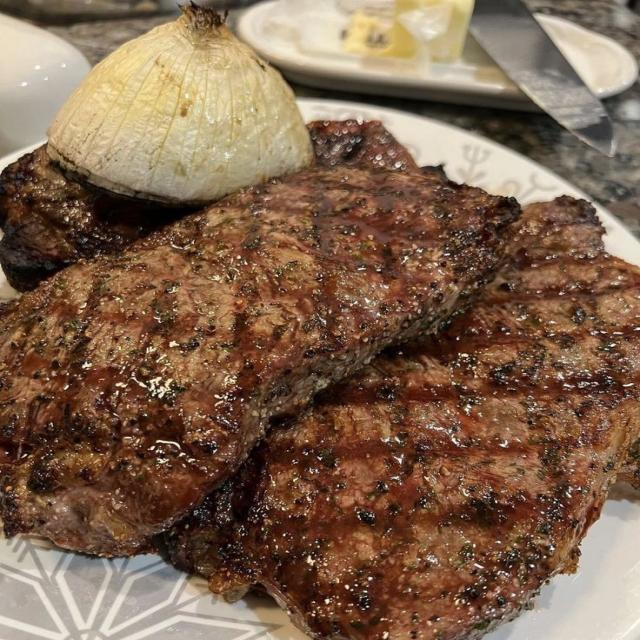beef steak: (167, 196, 639, 639), (0, 165, 519, 555), (0, 145, 193, 291), (309, 119, 419, 171)
onion: (49, 4, 312, 204)
